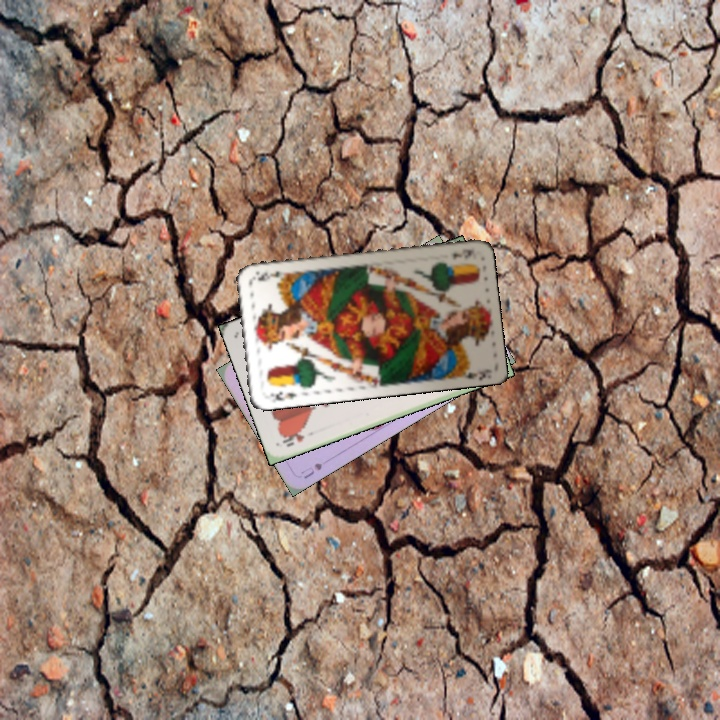EK: (266, 387, 300, 404), (449, 245, 476, 262)
HO: (278, 427, 307, 449)
SU: (297, 459, 325, 482)
